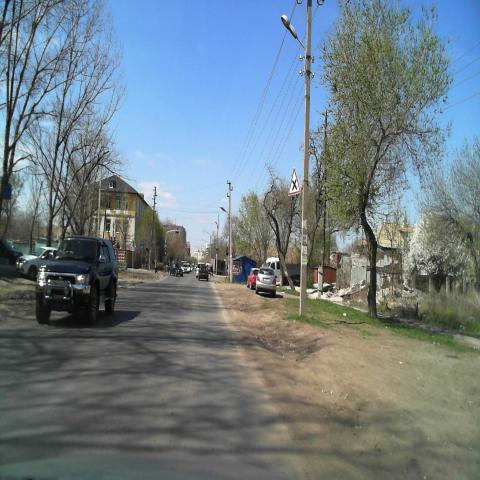1_6: (288, 167, 301, 196)
